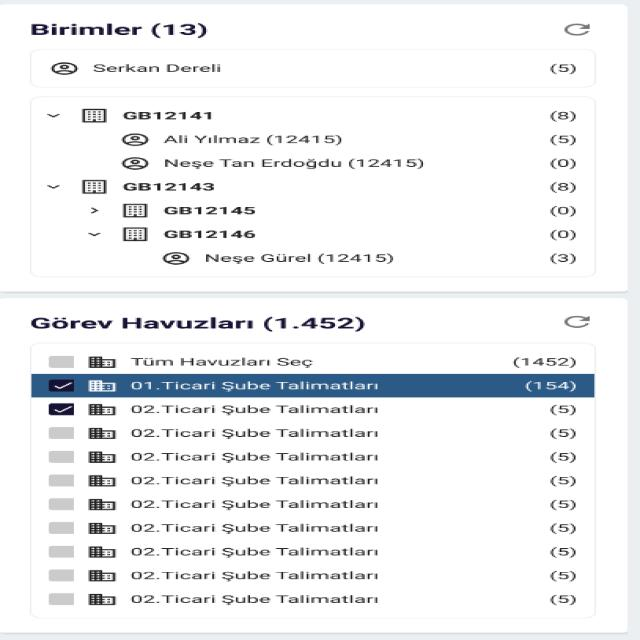QLabel: (23, 315, 368, 333), (26, 19, 210, 41), (123, 379, 380, 392), (124, 451, 382, 463), (125, 498, 380, 510), (128, 404, 382, 416), (126, 522, 380, 534), (127, 546, 381, 558), (127, 593, 381, 605), (127, 427, 380, 439), (127, 570, 380, 582), (126, 475, 382, 486), (126, 357, 317, 368), (90, 62, 224, 74), (548, 62, 578, 75), (550, 205, 576, 218), (550, 546, 576, 559), (550, 110, 576, 122), (550, 158, 576, 170), (550, 253, 576, 265), (550, 404, 576, 416), (550, 229, 576, 241), (550, 428, 576, 440), (550, 476, 576, 488), (550, 570, 576, 582), (550, 594, 576, 606), (550, 182, 575, 194), (550, 452, 575, 464), (550, 499, 575, 511), (550, 523, 575, 535), (551, 134, 575, 146)
VCard: (1, 296, 630, 632), (0, 2, 629, 292), (27, 340, 600, 620), (26, 94, 599, 280), (26, 48, 597, 89)
VCheckbox: (47, 355, 76, 369), (46, 473, 75, 487), (47, 378, 76, 392), (48, 521, 75, 535), (47, 545, 75, 558), (48, 426, 74, 439), (48, 450, 74, 463), (48, 403, 75, 415), (48, 498, 74, 510), (48, 569, 74, 581), (48, 593, 74, 605)
VIcon: (562, 20, 592, 38), (49, 61, 79, 76), (86, 355, 118, 369), (562, 314, 592, 328), (86, 380, 118, 392), (121, 157, 149, 170), (162, 252, 190, 265), (88, 498, 115, 511), (88, 404, 116, 416), (88, 428, 116, 440), (88, 451, 115, 463), (88, 570, 115, 582), (88, 546, 115, 558), (88, 594, 115, 606), (122, 134, 148, 146), (88, 523, 115, 534), (88, 475, 115, 486)
